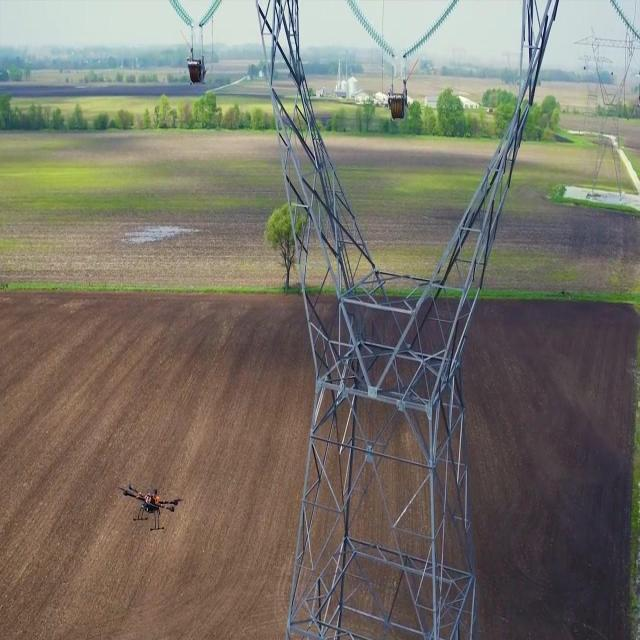drone: (120, 479, 184, 533)
